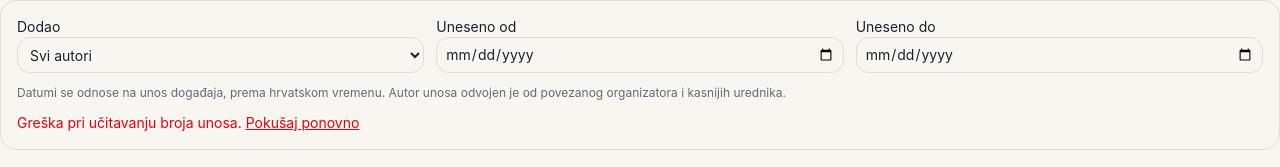
Test case: creator filters and report › shows a report error and retries without displaying stale counts
The width and height of the screenshot is (1280, 167).
Check: the message "Greška pri učitavanju broja unosa. Pokušaj ponovno" is shown, box [17, 113, 359, 133]
Check: the text "ukupno 8" is not shown
What coordinates should you click on to do the following:
click the button "Pokušaj ponovno"
I would click on:
 (303, 123)
Its box is [246, 113, 359, 133].
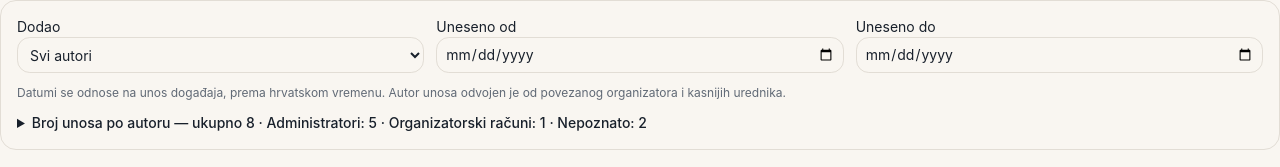
Check: the text "ukupno 8" is shown, box [32, 114, 647, 131]
